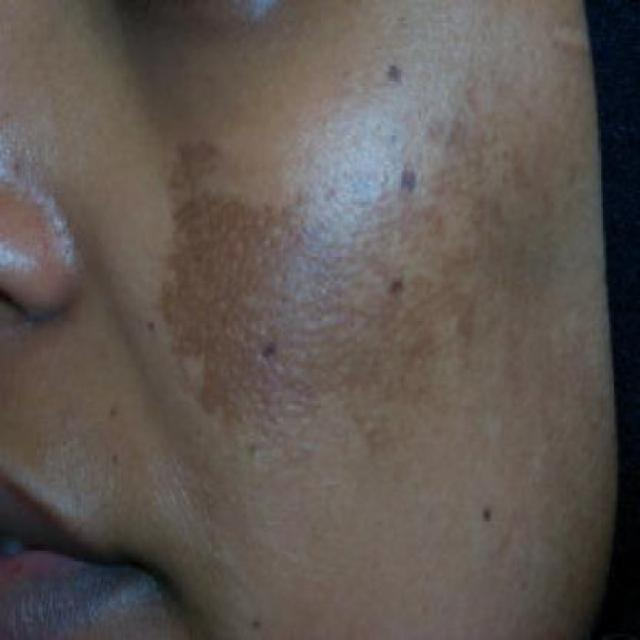melasma: (144, 2, 596, 456)
